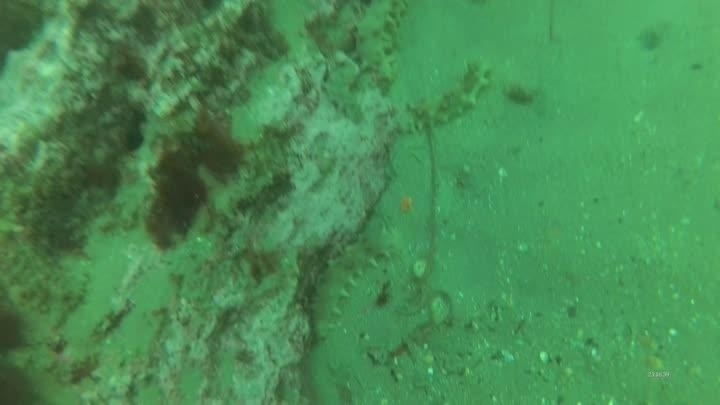echinus: (0, 304, 31, 357)
holothurian: (305, 226, 398, 339), (390, 57, 494, 138), (348, 0, 410, 85)
